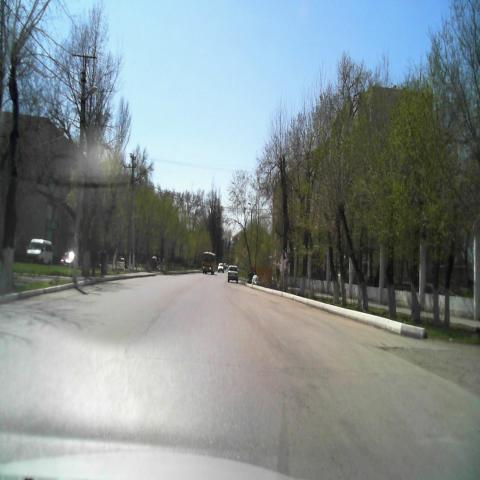2_1: (242, 248, 248, 257)
